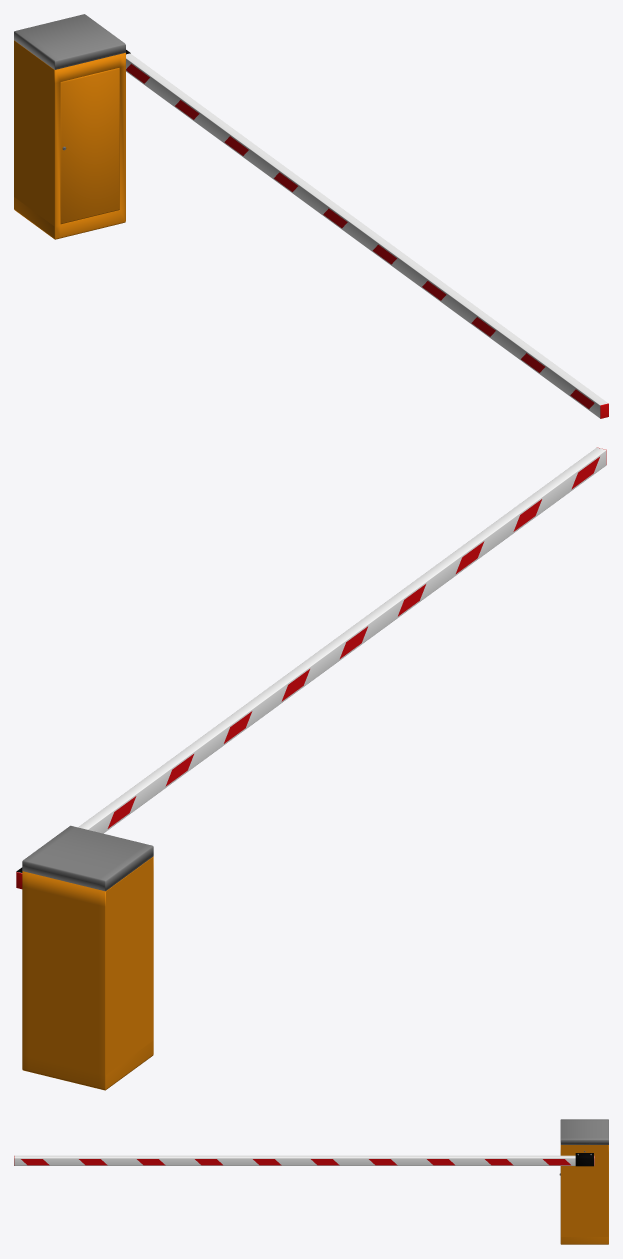
The model's file is SecurityGate.fbx.
The picture shows the model from 3 angles, top to bottom: view 1: azimuth 30°, elevation 25°; view 2: azimuth 150°, elevation 25°; view 3: azimuth 270°, elevation 25°; orthographic projection. The views are drawn at different scales.
Visible parts, largest first — view 1: Post_Cube, Beam_Cube.001, Safety_stickers_Plane.002; view 2: Post_Cube, Beam_Cube.001, Safety_stickers_Plane.002; view 3: Post_Cube, Beam_Cube.001, Safety_stickers_Plane.002, Beam_bracket_Cylinder.004.
Boxes of the visible parts, x1,y1,x2,y2 form: Post_Cube: [14, 14, 125, 239]; Beam_Cube.001: [126, 53, 608, 418]; Safety_stickers_Plane.002: [126, 64, 594, 408]; Post_Cube: [22, 825, 153, 1090]; Beam_Cube.001: [17, 447, 606, 873]; Safety_stickers_Plane.002: [107, 457, 599, 828]; Post_Cube: [560, 1119, 608, 1244]; Beam_Cube.001: [14, 1155, 594, 1165]; Safety_stickers_Plane.002: [21, 1159, 570, 1165]; Beam_bracket_Cylinder.004: [575, 1153, 593, 1166].
Bounding box in the file's own units: 62.35 × 120 × 616.
